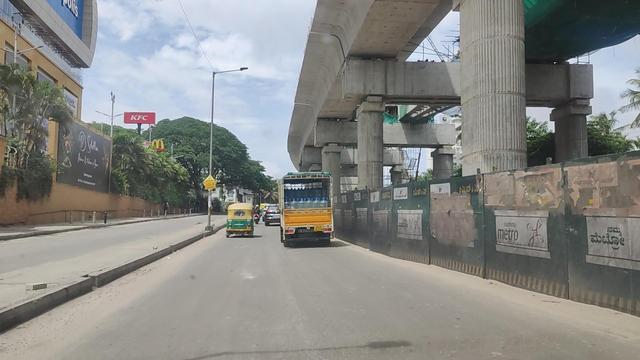HMV: (276, 170, 338, 250)
LMV: (224, 201, 257, 238)
